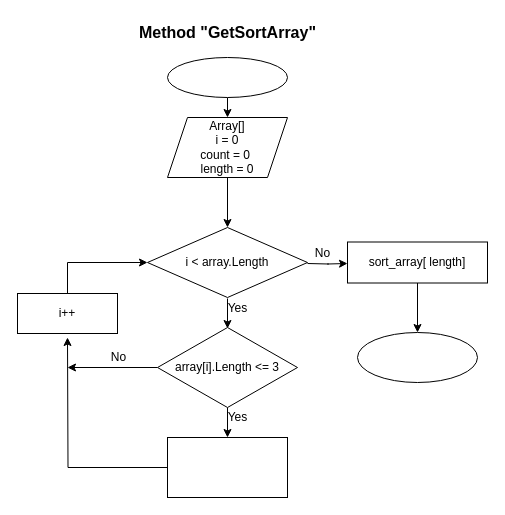
Image size: 505x515. Some labels were removed from this diagram. The shapes that lost their labels are listed below. From the top down, each one's centre as x and y in pixels, then its label:
At point (227, 77): "Start".
At point (417, 357): "Finish".
At point (227, 467): "sort_array[count] = array[i] count++ length = count".
